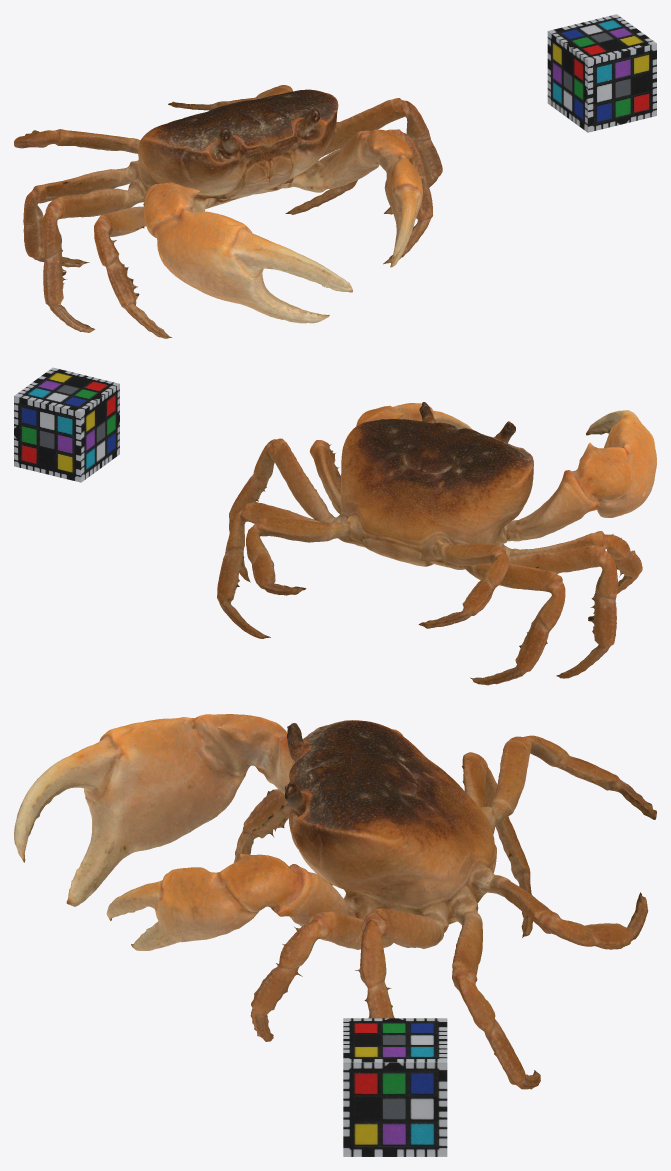
File: freshwater-crab.glb
3 renders of one model, top to bottom at view 1: azimuth 30°, elevation 25°; view 2: azimuth 150°, elevation 25°; view 3: azimuth 270°, elevation 25°, orthographic. The views are drawn at different scales.
Parts seen in each view (by area): view 1: Object_6, Object_4; view 2: Object_6, Object_4; view 3: Object_6, Object_4.
Part boxes in pixels (bbox=[...]): Object_6: bbox=[14, 85, 442, 338]; Object_4: bbox=[547, 14, 656, 132]; Object_6: bbox=[217, 402, 656, 685]; Object_4: bbox=[14, 367, 119, 482]; Object_6: bbox=[14, 714, 656, 1089]; Object_4: bbox=[343, 1018, 447, 1156].
Bounding box in the file's own units: 0.0861 × 0.0291 × 0.0617.
Materials: 2 (2 with a texture image).
